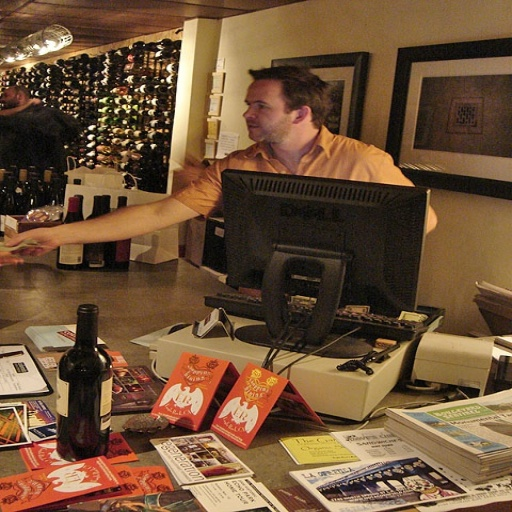hand: (8, 209, 76, 256), (28, 96, 43, 104)
